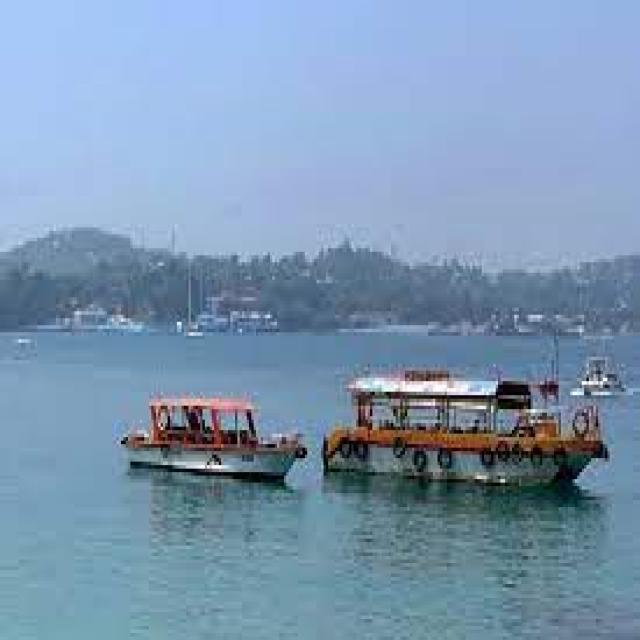houseboat: (115, 380, 302, 506)
